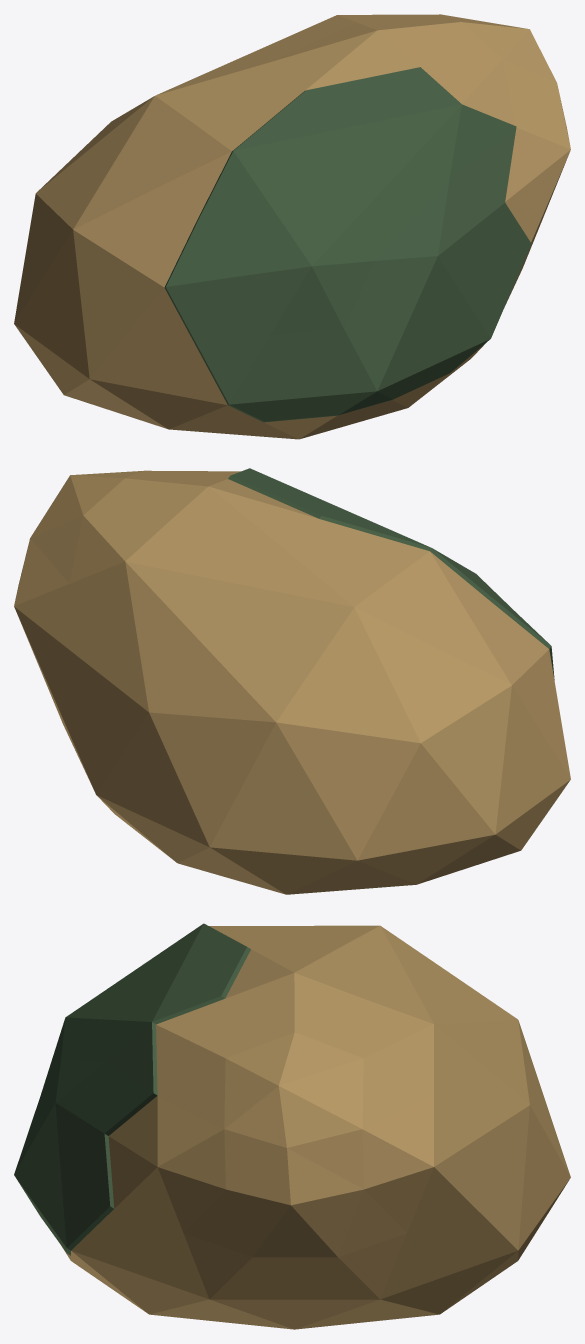
The model's file is MossStoneS.fbx.
The picture shows the model from 3 angles, top to bottom: view 1: azimuth 30°, elevation 25°; view 2: azimuth 150°, elevation 25°; view 3: azimuth 270°, elevation 25°; orthographic projection. The views are drawn at different scales.
Visible parts, largest first — view 1: MossStoneS; view 2: MossStoneS; view 3: MossStoneS.
Part boxes in pixels (x1=…): MossStoneS: x1=14, y1=14, x2=570, y2=439; MossStoneS: x1=14, y1=468, x2=570, y2=894; MossStoneS: x1=14, y1=923, x2=570, y2=1329.
Bounding box in the file's own units: 1084 × 595 × 919.
